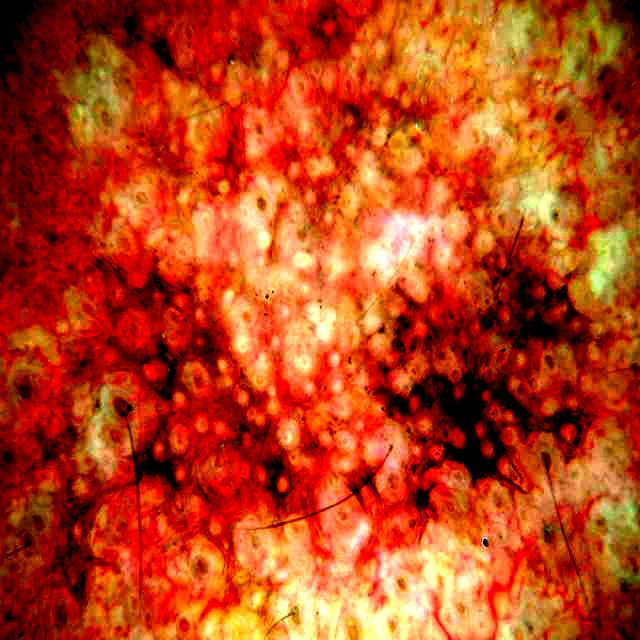AKIEC: (64, 13, 592, 559)
